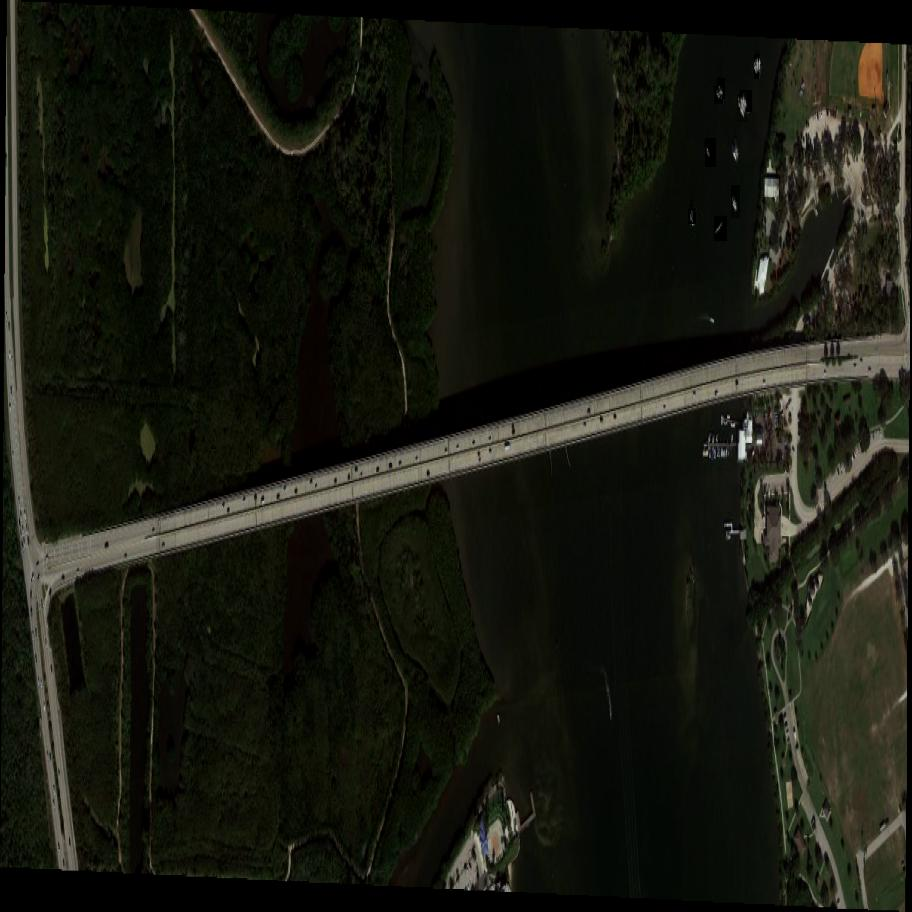ship: (711, 219, 731, 241), (703, 138, 718, 166), (730, 185, 741, 218), (737, 93, 748, 122), (715, 78, 730, 99), (741, 90, 755, 112), (713, 87, 725, 104), (689, 208, 696, 225), (755, 56, 758, 78)
